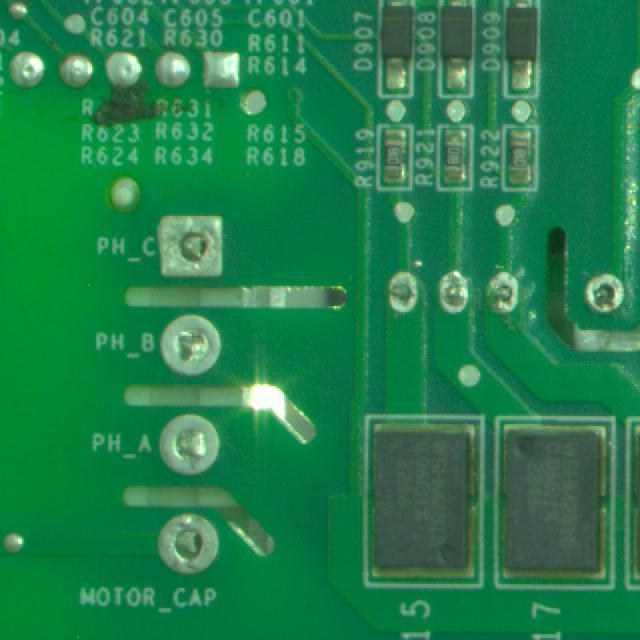Insufficient solder: (151, 207, 240, 280), (152, 512, 225, 583), (164, 311, 230, 378), (161, 413, 223, 472), (485, 266, 524, 325), (586, 265, 630, 313), (380, 273, 425, 318), (442, 270, 474, 321)
